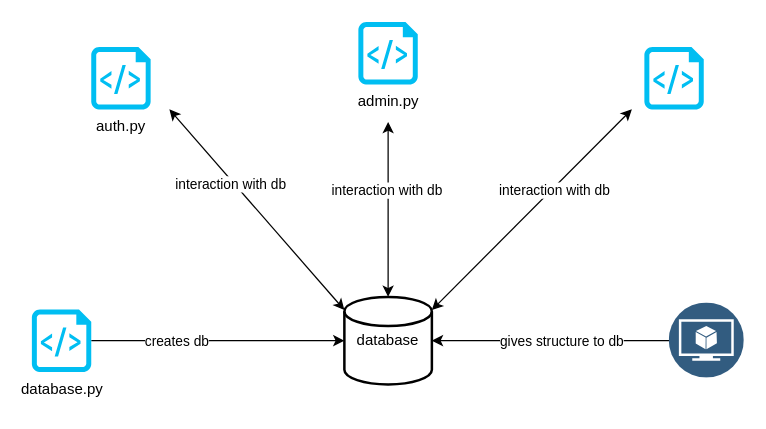
Image size: 766x429. Some labels were removed from this diagram. Here are the shapes that lost their labels. From the top down, the box of each, then its label:
(644, 46, 703, 109): users.py
(669, 302, 744, 378): models.py
